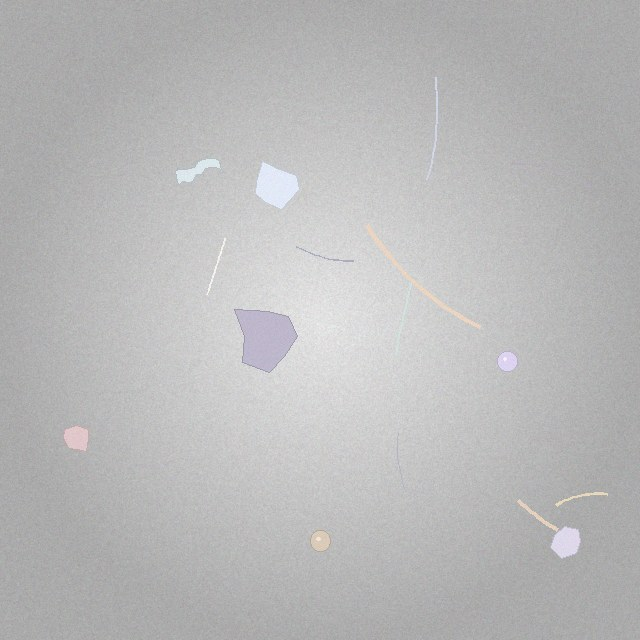fiber: (362, 221, 484, 331), (509, 161, 592, 189), (514, 495, 563, 535), (424, 75, 440, 182), (393, 279, 413, 357), (204, 237, 227, 297), (294, 244, 356, 263), (553, 490, 611, 508), (396, 432, 407, 492)
film: (175, 158, 221, 185)
fragment: (235, 310, 298, 372), (255, 161, 299, 210), (550, 527, 581, 559), (64, 426, 89, 451)
pellet: (310, 531, 331, 551), (497, 351, 517, 372)
